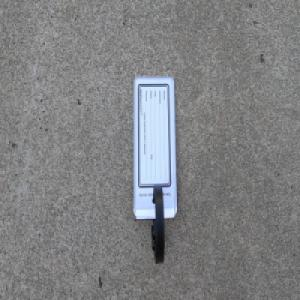LuggageTag: (132, 73, 179, 265)
